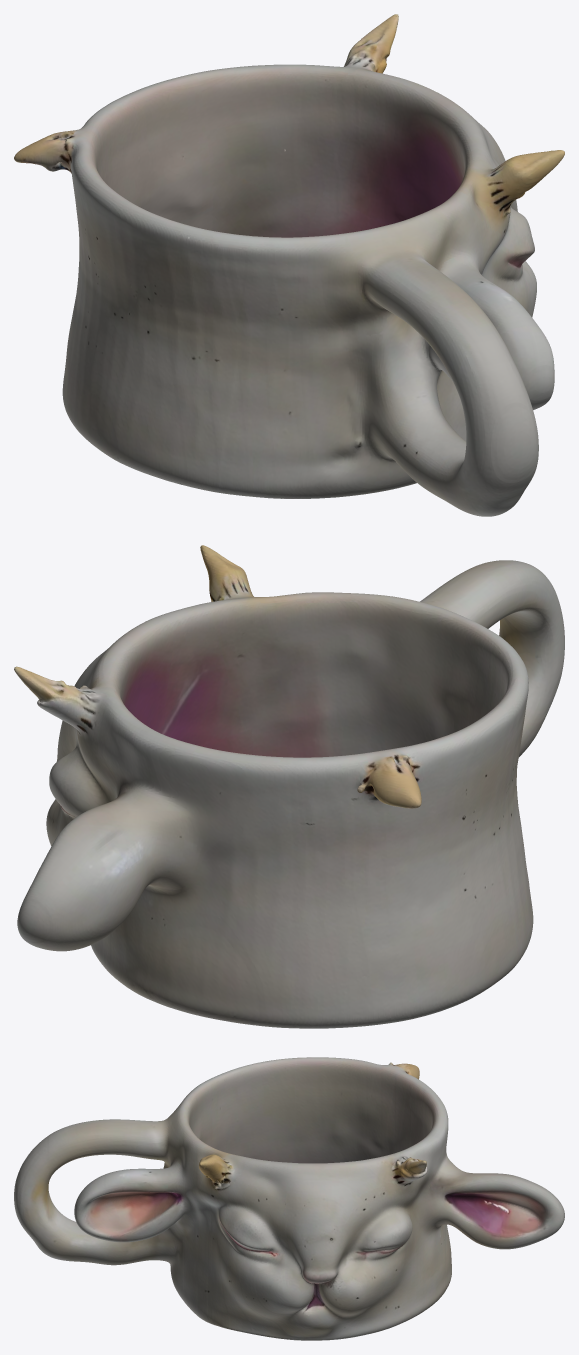
3 renders of one model, top to bottom at view 1: azimuth 30°, elevation 25°; view 2: azimuth 150°, elevation 25°; view 3: azimuth 270°, elevation 25°, orthographic. The views are drawn at different scales.
Parts seen in each view (by area): view 1: tripo_node_2f533947-95de-4327-9c50-2b15e8cc6a23; view 2: tripo_node_2f533947-95de-4327-9c50-2b15e8cc6a23; view 3: tripo_node_2f533947-95de-4327-9c50-2b15e8cc6a23.
Boxes of the visible parts, bbox=[...] form: tripo_node_2f533947-95de-4327-9c50-2b15e8cc6a23: bbox=[14, 14, 564, 516]; tripo_node_2f533947-95de-4327-9c50-2b15e8cc6a23: bbox=[14, 545, 564, 1028]; tripo_node_2f533947-95de-4327-9c50-2b15e8cc6a23: bbox=[14, 1057, 564, 1340].
Bounding box in the file's own units: 0.5747 × 0.3773 × 1.
Materials: 1 (1 with a texture image).
